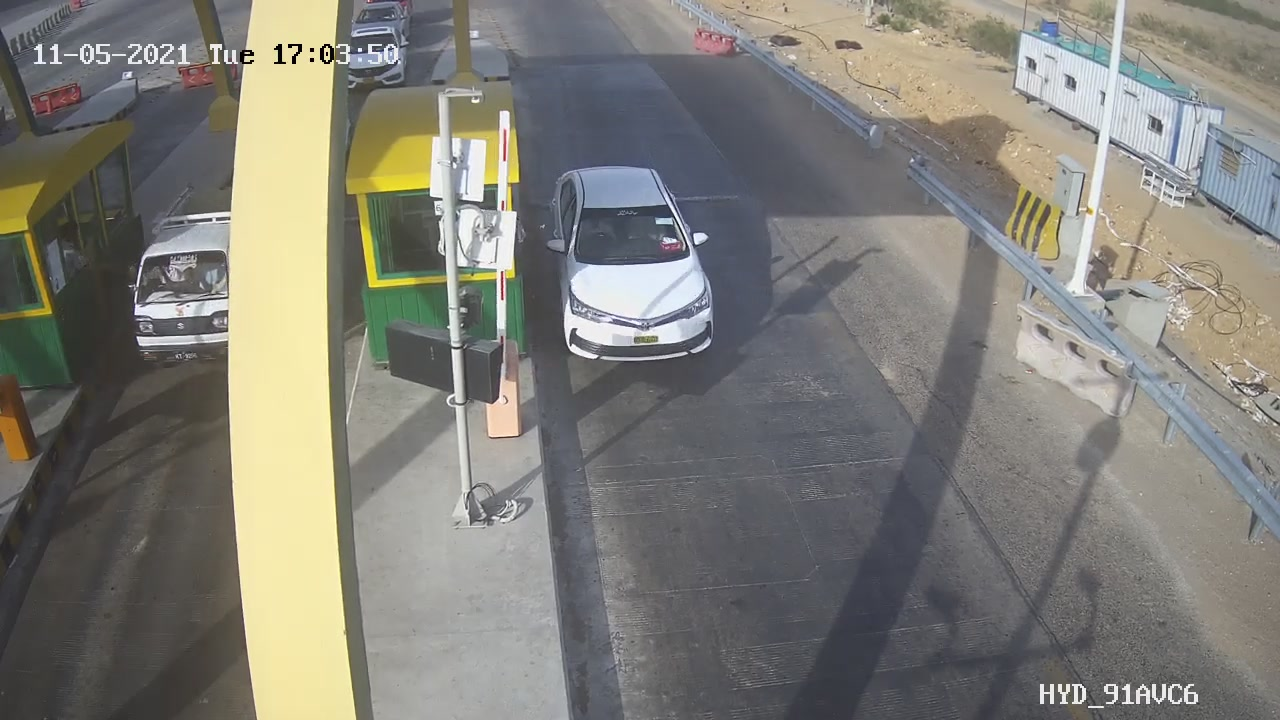F1: (529, 149, 740, 377)
